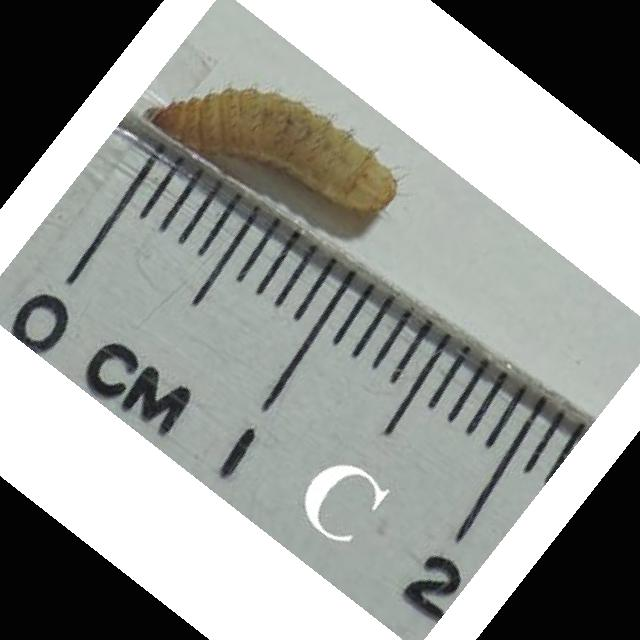Maggot: (143, 85, 406, 215)
